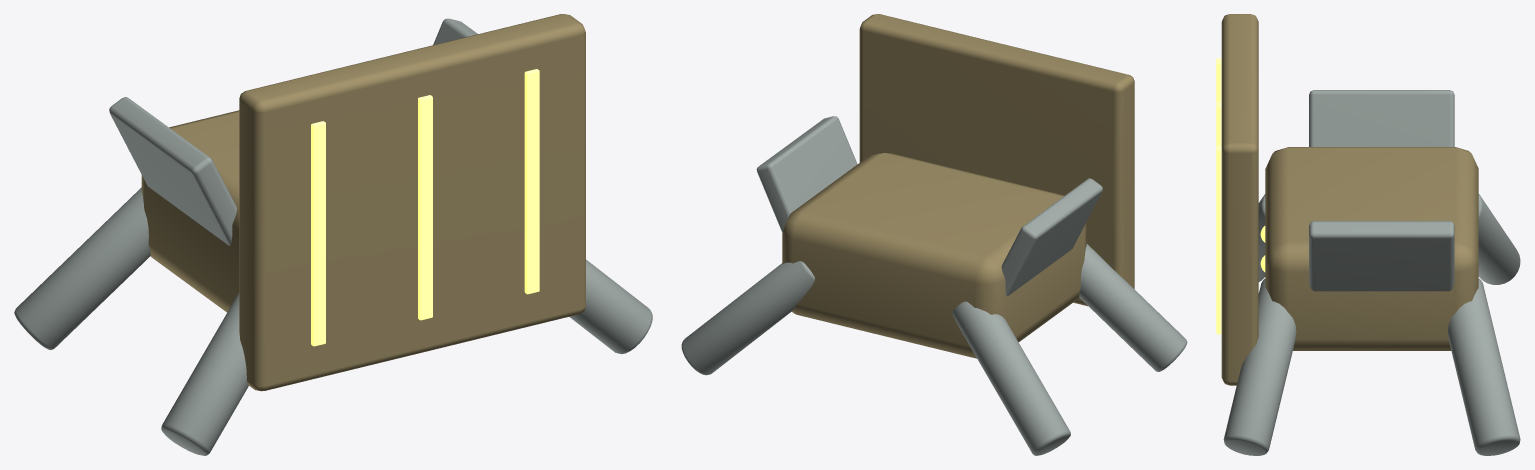
File: card_p3_tank.glb
The picture shows the model from 3 angles, left to right: view 1: azimuth 30°, elevation 25°; view 2: azimuth 150°, elevation 25°; view 3: azimuth 270°, elevation 25°; orthographic projection. The views are drawn at different scales.
Visible parts, largest first — view 1: card_p3_tank; view 2: card_p3_tank; view 3: card_p3_tank.
Part boxes in pixels (box(x1,y1,x2,y2)): card_p3_tank: box(14, 14, 652, 455); card_p3_tank: box(681, 14, 1187, 455); card_p3_tank: box(1216, 14, 1520, 455).
Size of the model in its own units: 2.4 by 1.66 by 1.57.
